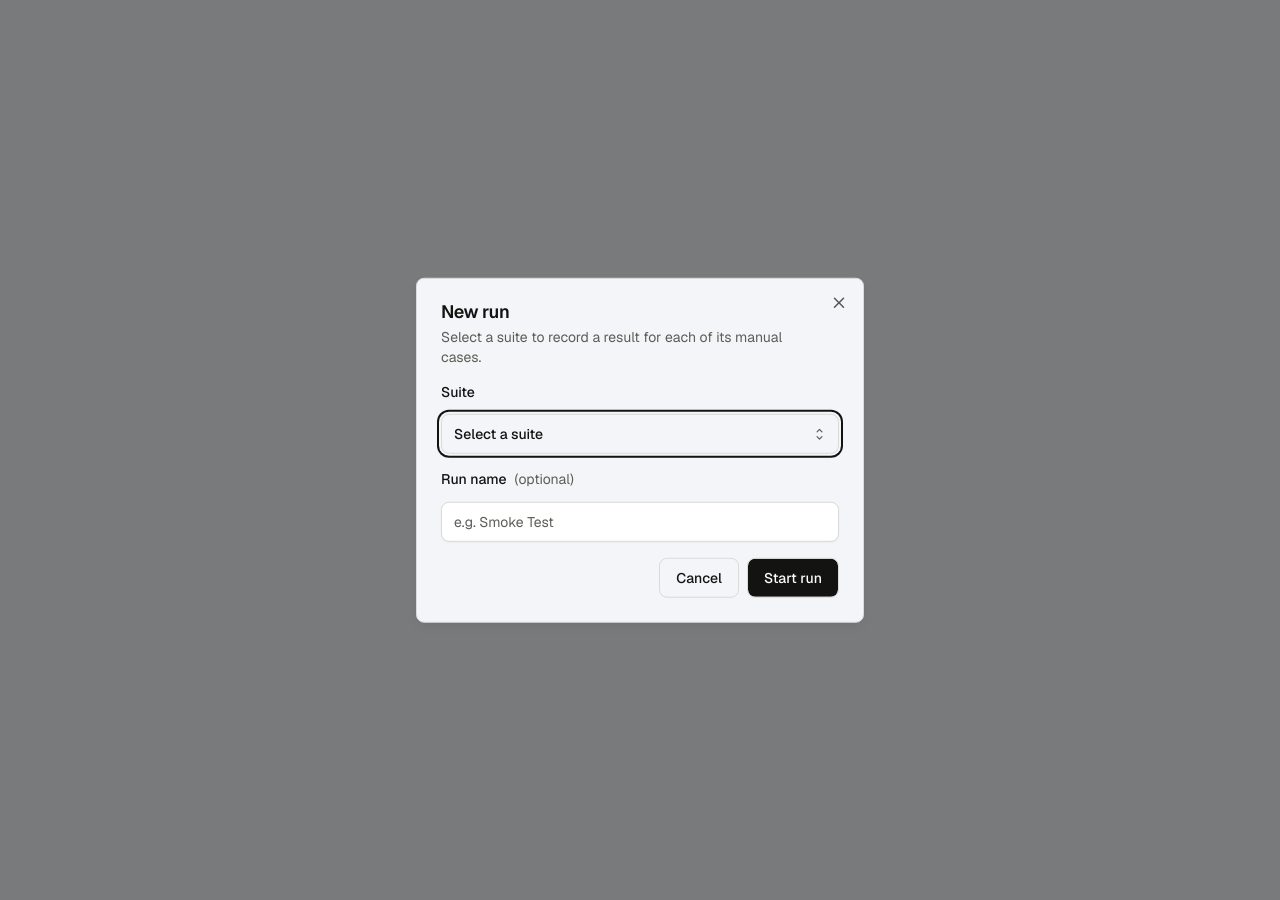
NewRunForm › translates a raw backend empty-suite error instead of rendering it verbatim
The image size is (1280, 900).
Step 1. Click the dropdown labelled "suite" → x=499, y=434, box top-left (441, 414), bottom-right (839, 454)
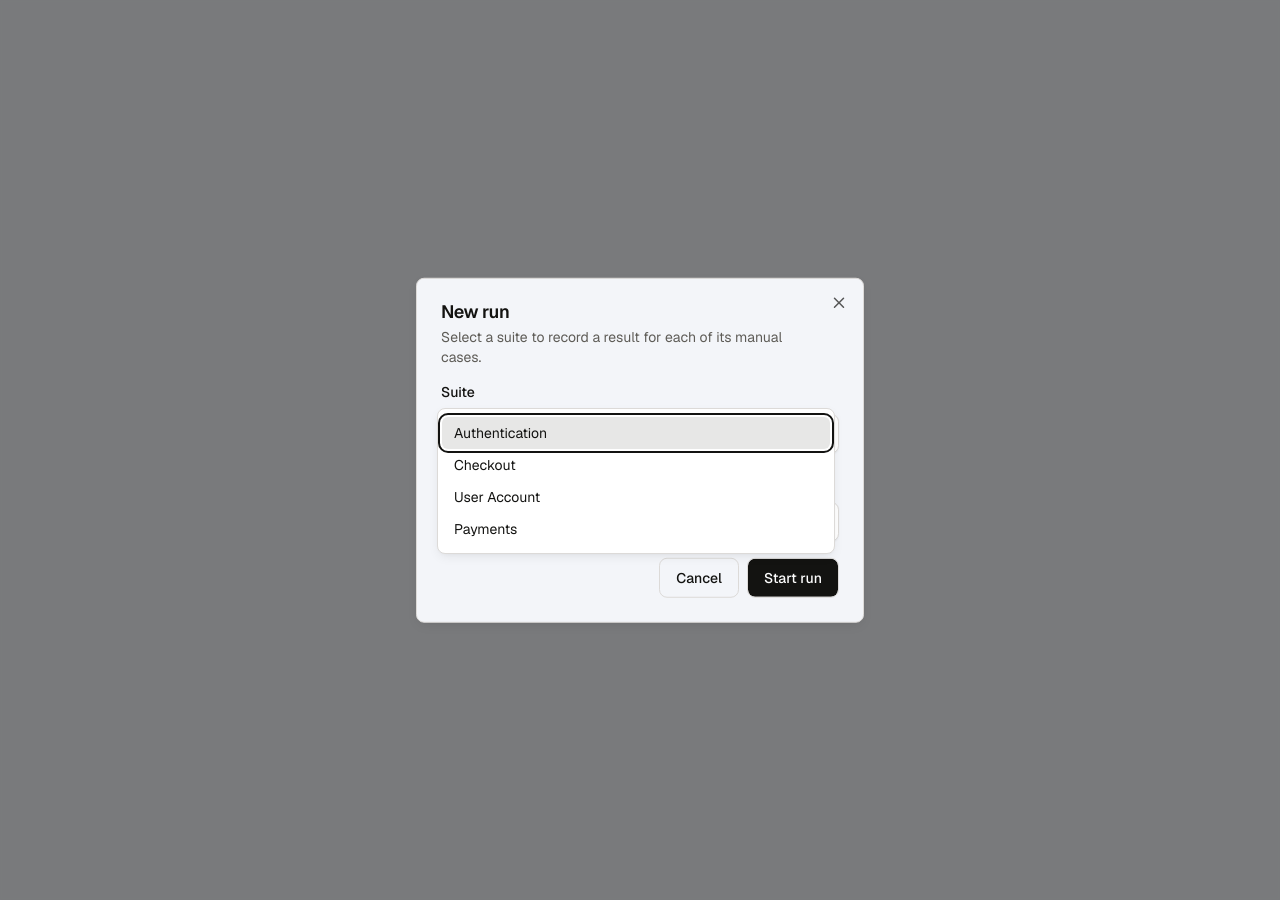
Step 2. Click the option "Authentication" → x=501, y=433, box top-left (442, 417), bottom-right (830, 449)
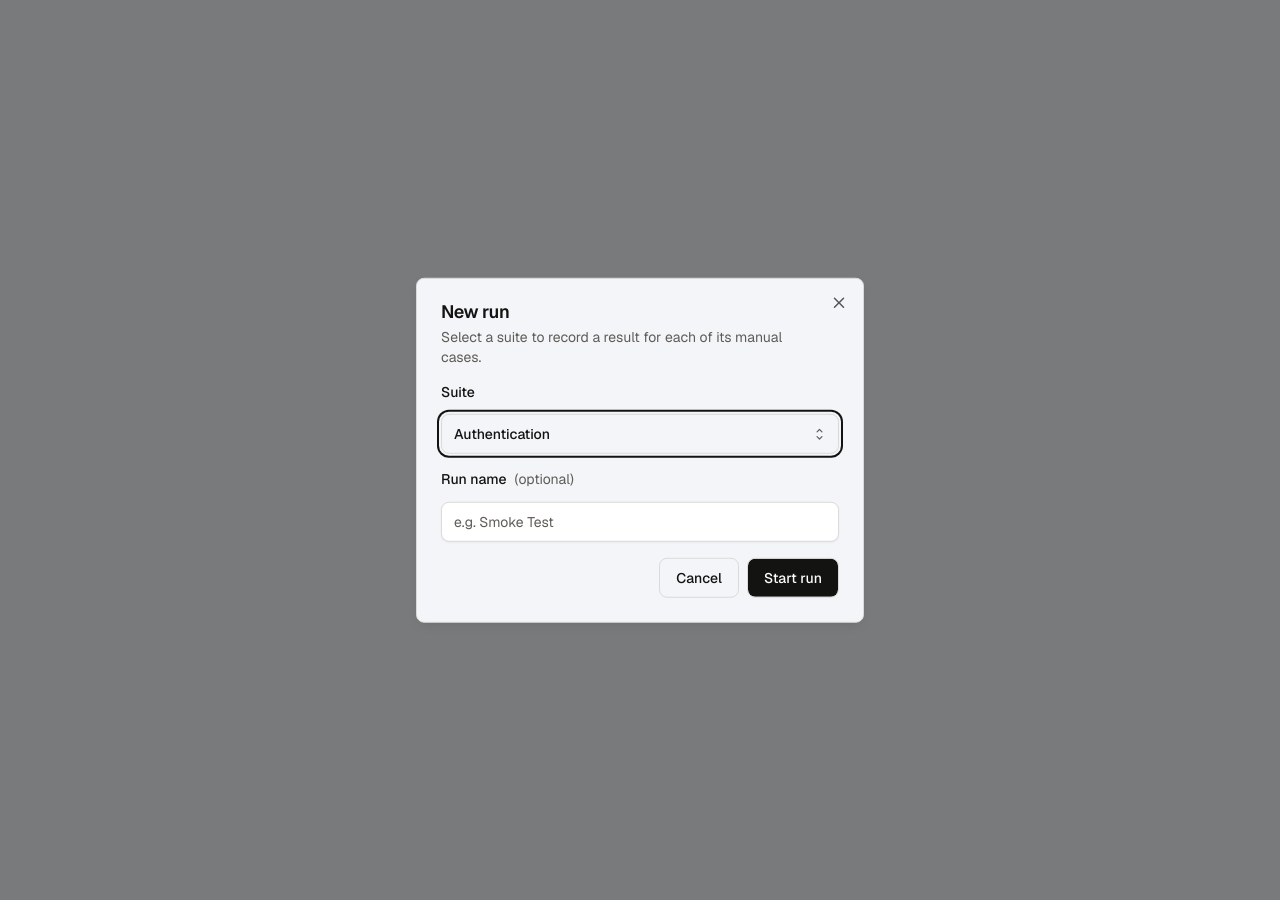
Step 3. Click the button "Start run" → x=793, y=577, box top-left (747, 557), bottom-right (839, 597)
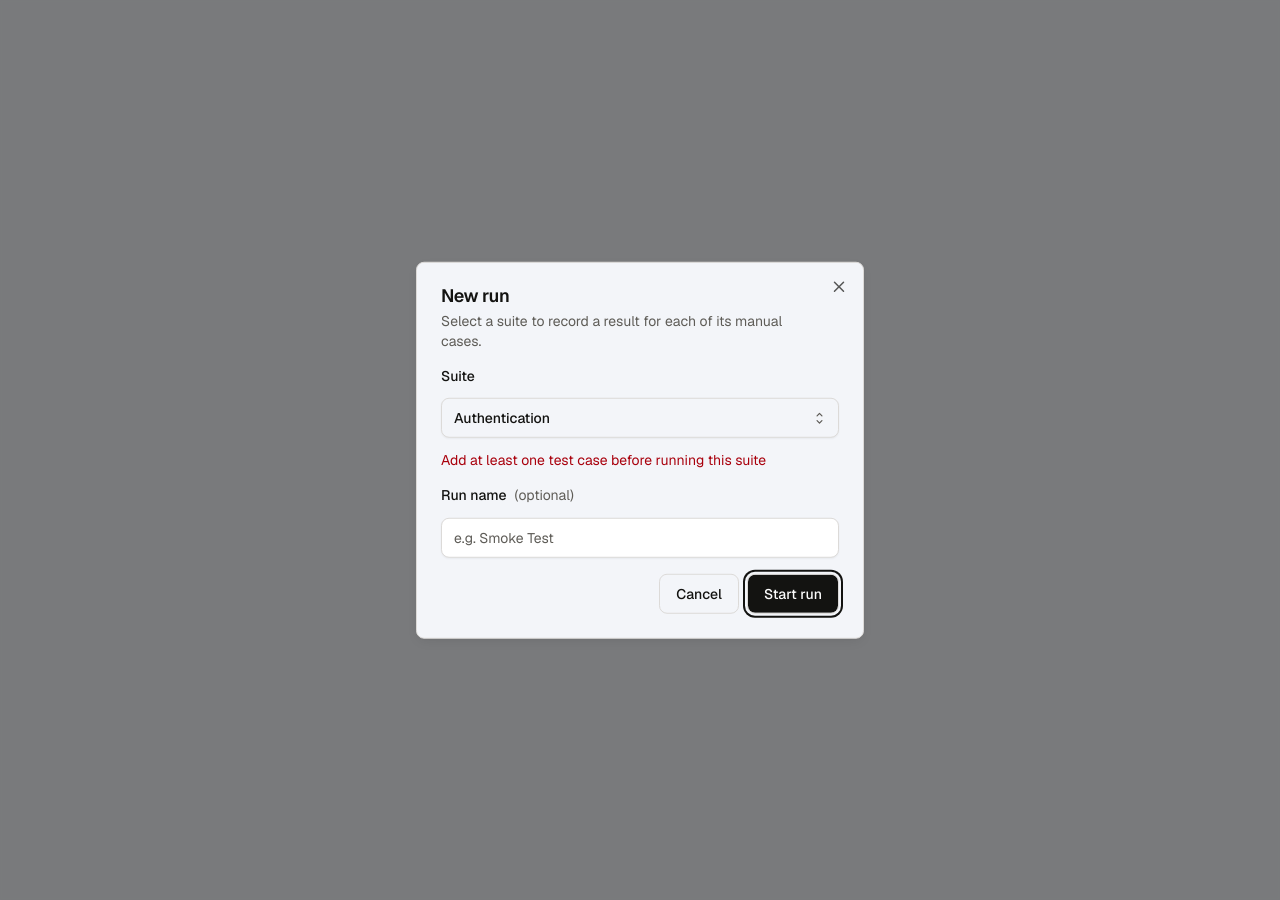
Now the text "Add at least one test case before running this suite" is shown, box top-left (441, 451), bottom-right (766, 469)
